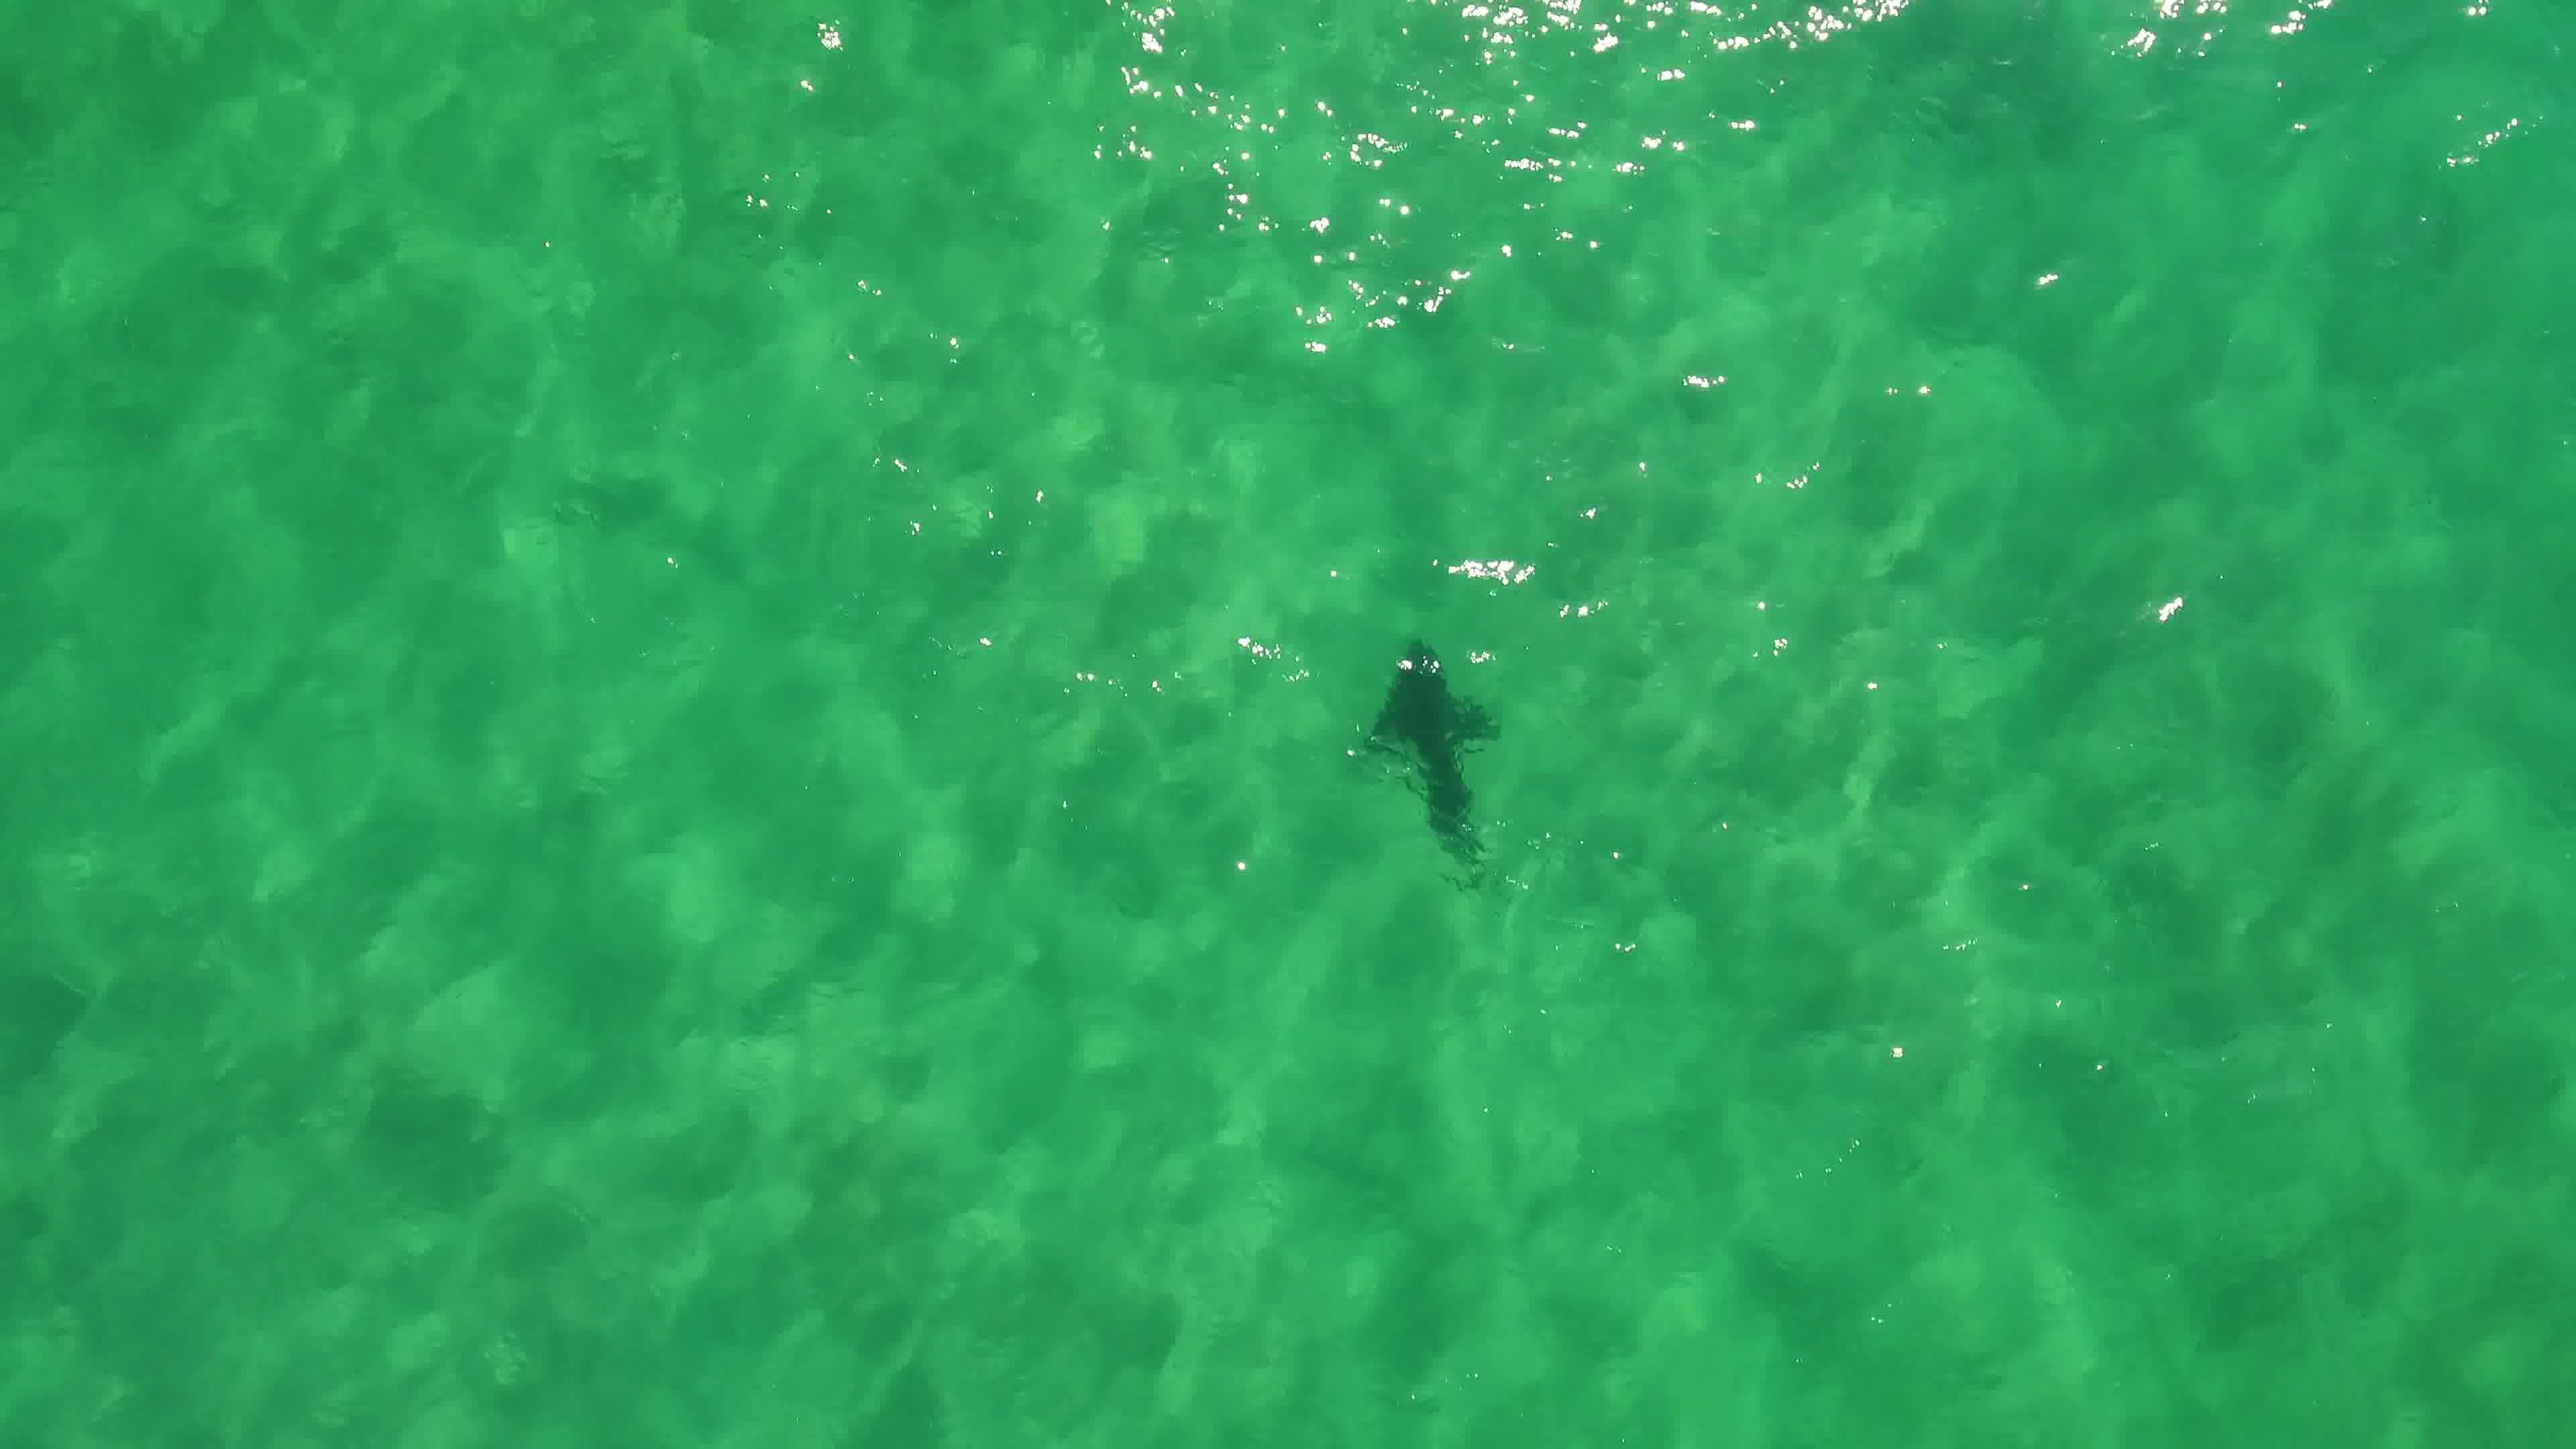shark: (1350, 632, 1509, 878)
